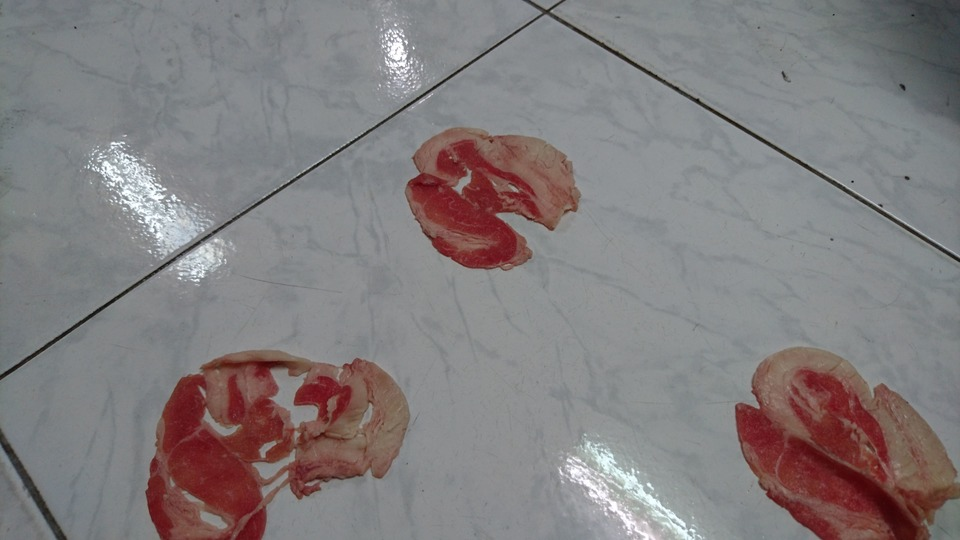restructured meat: (144, 342, 416, 540), (736, 335, 960, 540), (407, 121, 580, 275)
